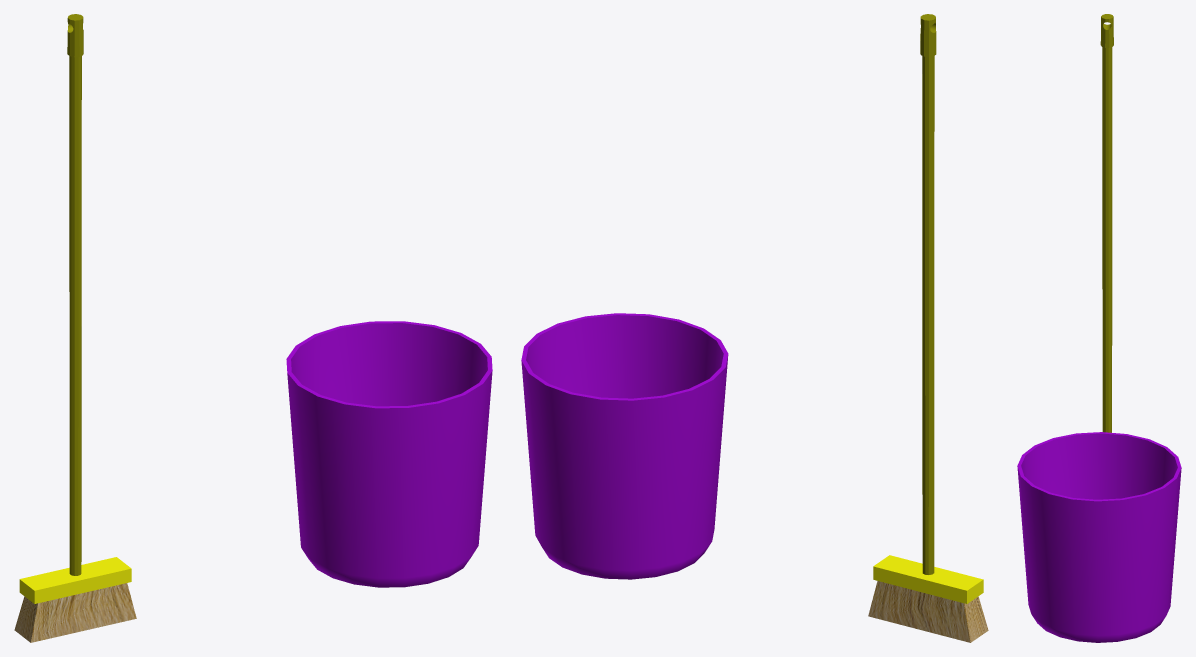
The model's file is mop_with_bucket.glb.
3 renders of one model, left to right at view 1: azimuth 30°, elevation 25°; view 2: azimuth 150°, elevation 25°; view 3: azimuth 270°, elevation 25°, orthographic. The views are drawn at different scales.
Visible parts, largest first — view 1: bucket, pCylinder3, pCube466, pCube465; view 2: bucket, pCylinder3, pCube466, pCube465; view 3: bucket, pCylinder3.
Boxes of the visible parts, box(x1,y1,x2,y2) form: bucket: box(286, 321, 492, 587); pCylinder3: box(67, 14, 83, 575); pCube466: box(14, 583, 136, 642); pCube465: box(19, 557, 131, 603); bucket: box(521, 313, 728, 579); pCylinder3: box(920, 14, 936, 574); pCube466: box(868, 581, 988, 642); pCube465: box(873, 555, 983, 603); bucket: box(1017, 432, 1181, 642); pCylinder3: box(1100, 14, 1113, 432).
Bounding box in the file's own units: 1.02 × 1.32 × 0.4083.
4 materials, 1 textured.
